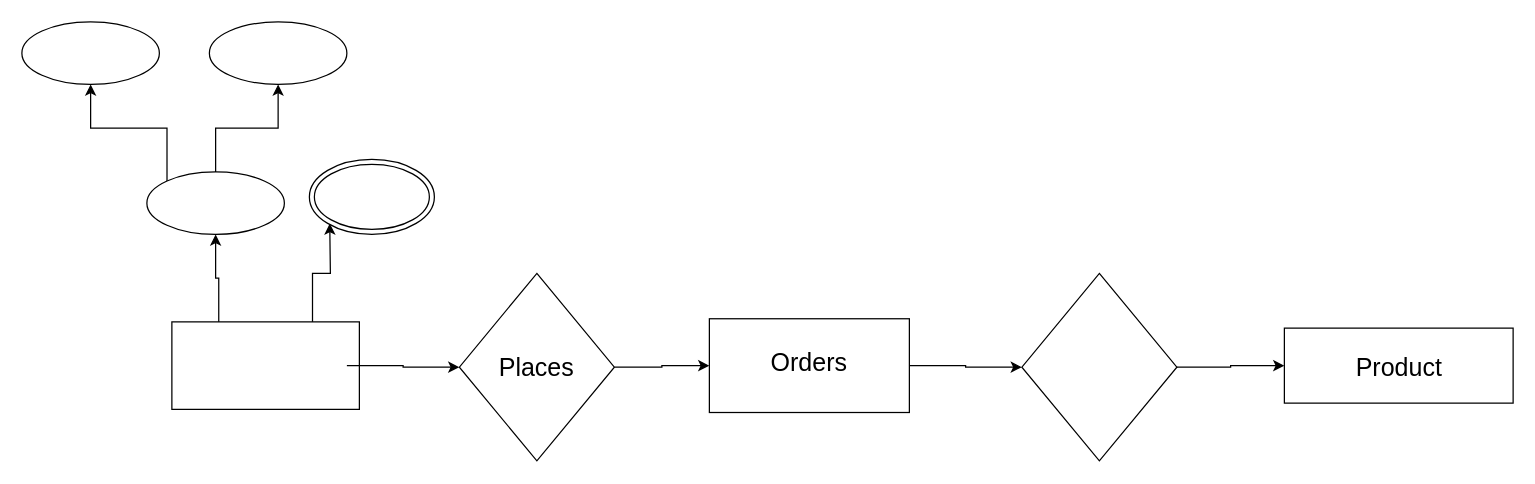
Image size: 1535x484. Some labels were removed from this diagram. Here are the shapes that lost their labels. From the top down, the centre of each, then its label:
[265,365]: Customer
[1099,366]: Contains
